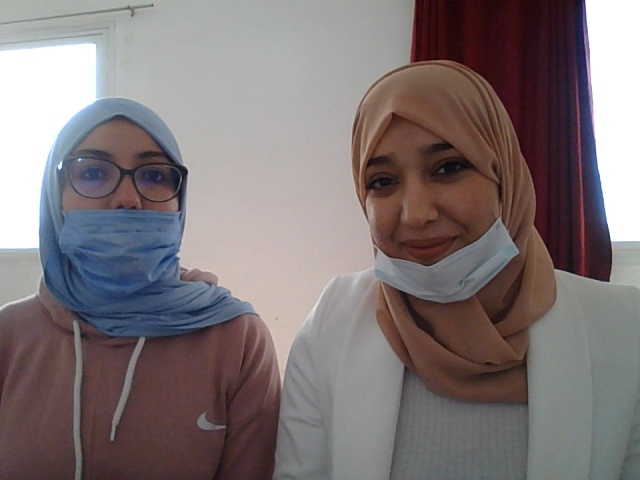mask_weared_incorrect: (326, 81, 541, 306), (41, 99, 198, 308)
